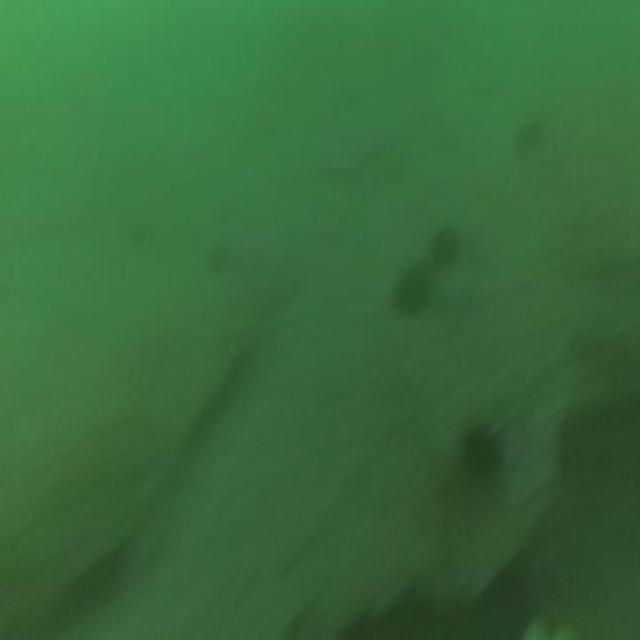echinus: (456, 414, 505, 493), (387, 261, 433, 321), (427, 216, 464, 275), (512, 107, 546, 163), (203, 236, 233, 280)
